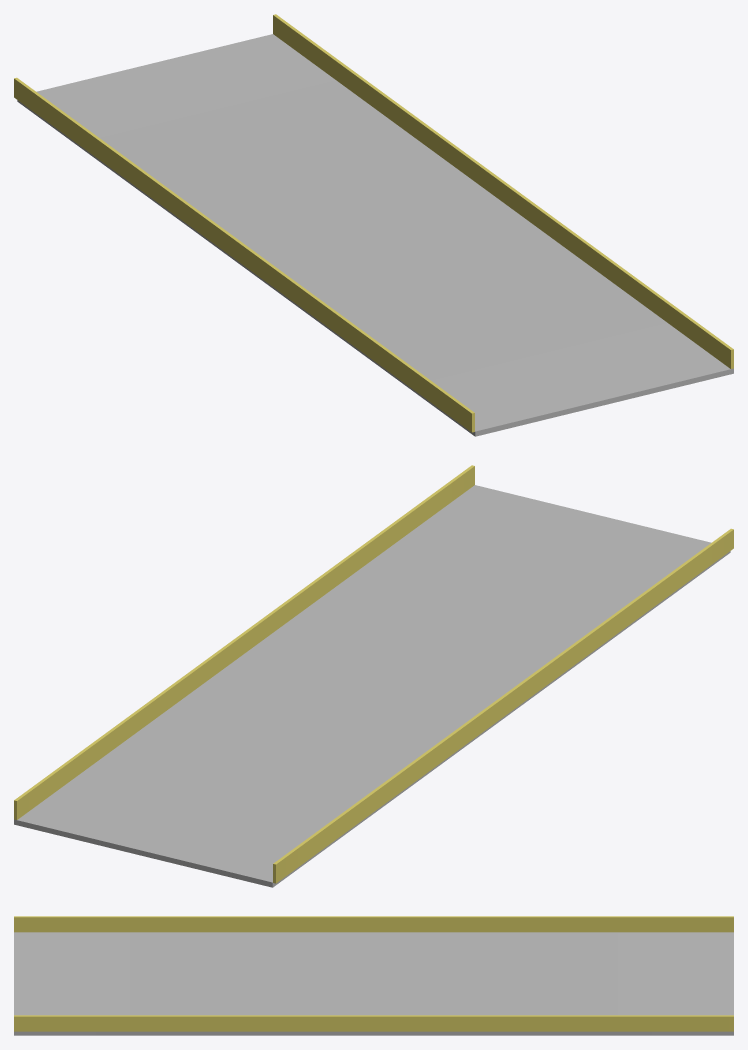
File: CurveRoad.fbx
The picture shows the model from 3 angles, top to bottom: view 1: azimuth 30°, elevation 25°; view 2: azimuth 150°, elevation 25°; view 3: azimuth 270°, elevation 25°; orthographic projection. The views are drawn at different scales.
Parts seen in each view (by area): view 1: Curve_Road; view 2: Curve_Road; view 3: Curve_Road.
Part boxes in pixels (x1,y1,x2,y2): Curve_Road: (14, 14, 733, 436); Curve_Road: (14, 465, 733, 887); Curve_Road: (14, 916, 733, 1035).
Bounding box in the file's own units: 2635 × 233 × 7974.
